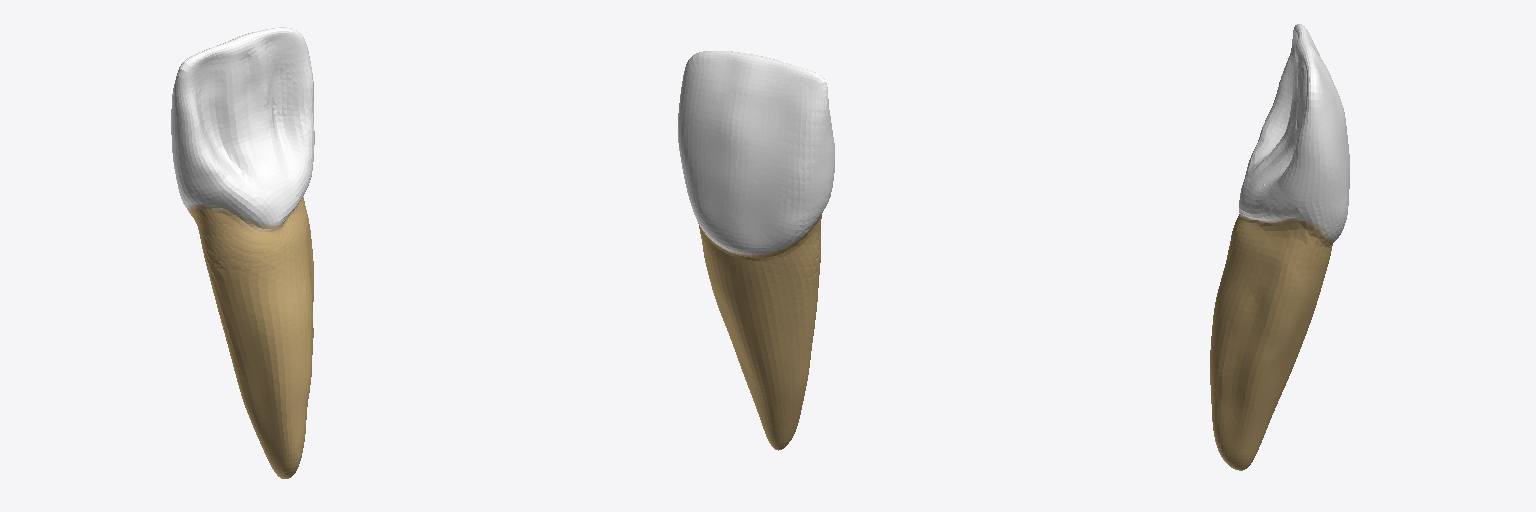
3 views of the same model, side by side, from view 1: azimuth 30°, elevation 25°; view 2: azimuth 150°, elevation 25°; view 3: azimuth 270°, elevation 25° (orthographic).
Parts seen in each view (by area): view 1: outer; view 2: outer; view 3: outer.
Boxes of the visible parts, box(x1,y1,x2,y2) form: outer: box(171, 27, 314, 478); outer: box(678, 51, 834, 450); outer: box(1210, 24, 1349, 470).
Bounding box in the file's own units: 3.37 × 9.59 × 2.9.
Materials: 2 (1 with a texture image).